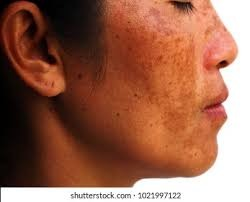Melasma: (109, 2, 214, 9)
